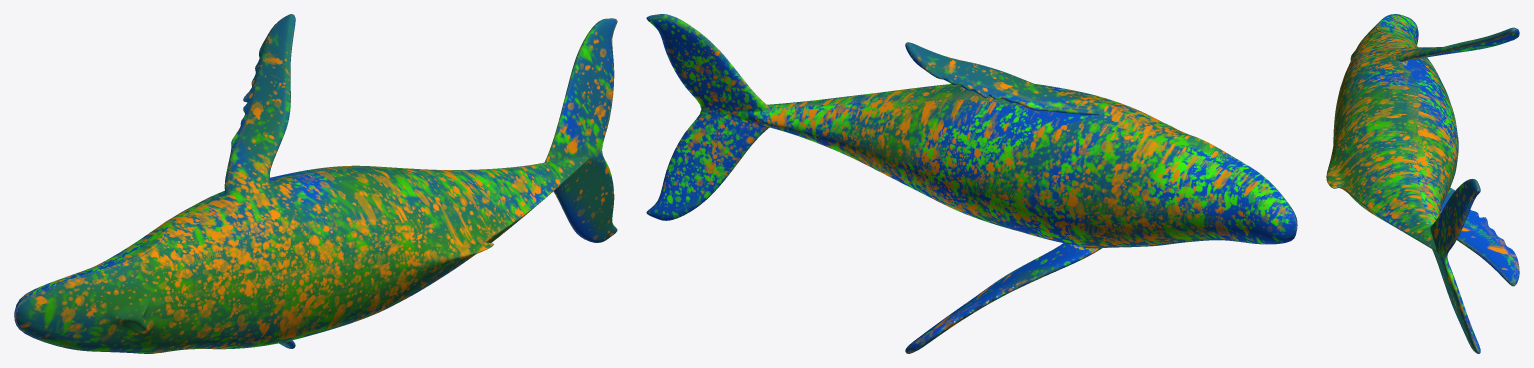
File: 10054_Whale_v2_L3.dae
The picture shows the model from 3 angles, left to right: view 1: azimuth 30°, elevation 25°; view 2: azimuth 150°, elevation 25°; view 3: azimuth 270°, elevation 25°; orthographic projection. The views are drawn at different scales.
Visible parts, largest first — view 1: _0054_Whale_v2; view 2: _0054_Whale_v2; view 3: _0054_Whale_v2.
Part boxes in pixels (box(x1,y1,x2,y2)): _0054_Whale_v2: box(14, 14, 617, 353); _0054_Whale_v2: box(646, 14, 1297, 353); _0054_Whale_v2: box(1326, 14, 1519, 353).
Size of the model in its own units: 515 by 253 by 171.
1 material, 1 textured.
